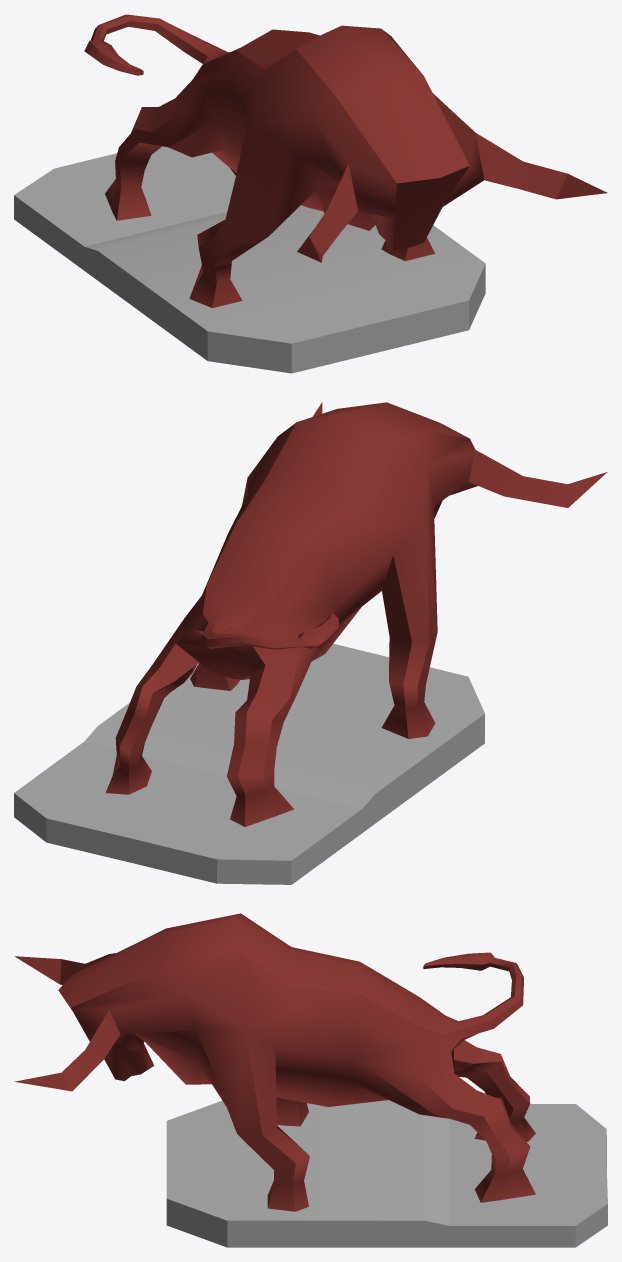
The model's file is lb_bull.fbx.
3 views of the same model, one above another, from view 1: azimuth 30°, elevation 25°; view 2: azimuth 150°, elevation 25°; view 3: azimuth 270°, elevation 25° (orthographic). The views are drawn at different scales.
Parts seen in each view (by area): view 1: polySurface7; view 2: polySurface7; view 3: polySurface7.
Boxes of the visible parts, box(x1,y1,x2,y2) form: polySurface7: box(14, 14, 607, 373); polySurface7: box(14, 402, 607, 884); polySurface7: box(14, 913, 607, 1247).
Bounding box in the file's own units: 96.57 × 96.21 × 193.
